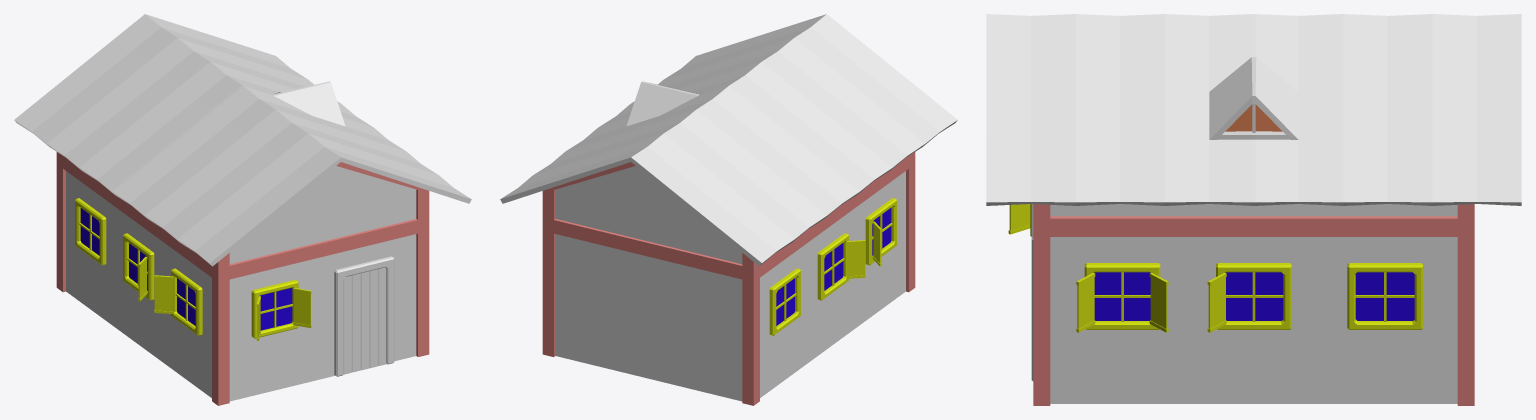
The model's file is Casa01.fbx.
3 views of the same model, side by side, from view 1: azimuth 30°, elevation 25°; view 2: azimuth 150°, elevation 25°; view 3: azimuth 270°, elevation 25° (orthographic). The views are drawn at different scales.
Visible parts, largest first — view 1: Cube.001, Cube, Cube.003, Cube.005, Cube.004; view 2: Cube, Cube.001, Cube.005; view 3: Cube.001, Cube, Cube.005, Cube.004, Cube.003.
Boxes of the visible parts, left/top/right/bottom form: Cube.001: left=14, top=14, right=471, bottom=266; Cube: left=56, top=152, right=429, bottom=405; Cube.003: left=334, top=256, right=394, bottom=376; Cube.005: left=75, top=198, right=202, bottom=335; Cube.004: left=251, top=279, right=311, bottom=340; Cube: left=542, top=152, right=915, bottom=405; Cube.001: left=500, top=14, right=957, bottom=266; Cube.005: left=769, top=198, right=896, bottom=335; Cube.001: left=986, top=14, right=1521, bottom=205; Cube: left=1033, top=204, right=1474, bottom=405; Cube.005: left=1076, top=263, right=1422, bottom=332; Cube.004: left=1008, top=204, right=1031, bottom=236; Cube.003: left=1031, top=204, right=1033, bottom=381.
Bounding box in the file's own units: 472 × 405 × 610.
